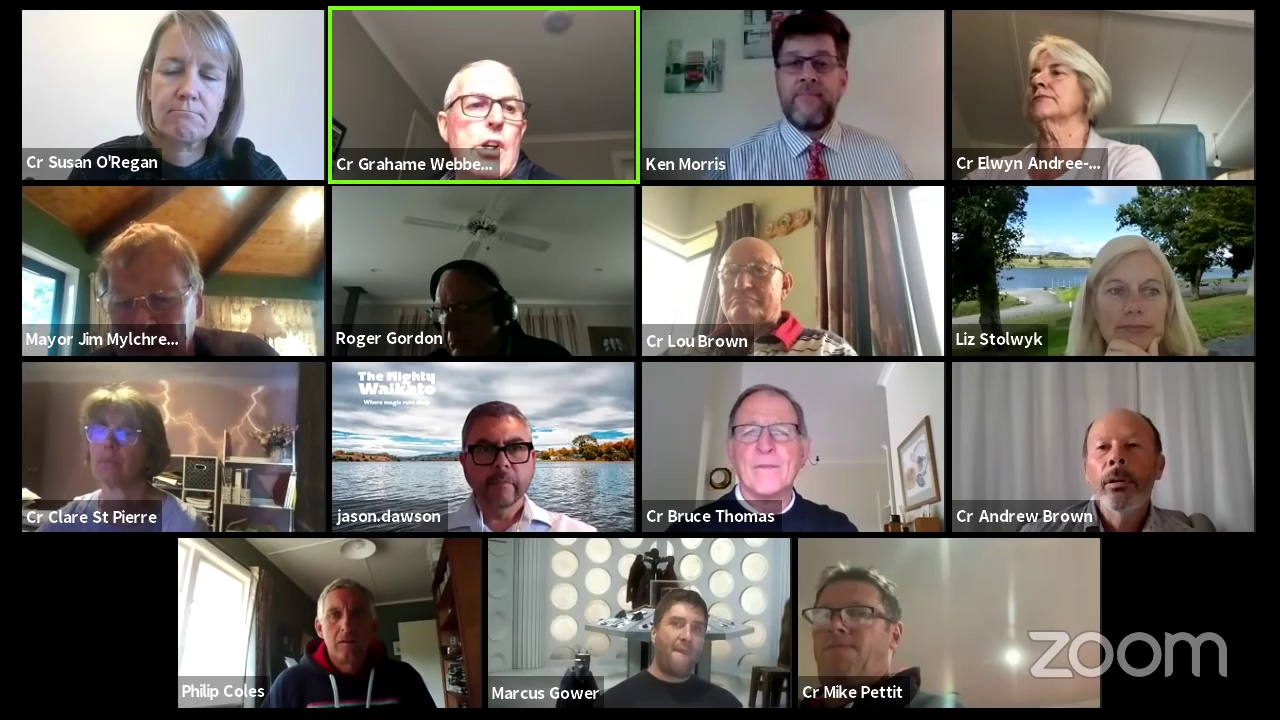Distracted: (127, 14, 243, 147), (420, 261, 525, 351), (1021, 38, 1108, 124)
Not Distracted: (88, 232, 211, 332), (1083, 237, 1181, 352), (720, 378, 815, 496), (803, 573, 899, 689), (762, 20, 856, 135), (436, 61, 536, 169), (451, 403, 542, 506), (1081, 415, 1172, 516), (75, 393, 169, 484), (713, 241, 794, 330), (648, 585, 713, 682), (313, 579, 384, 665)
